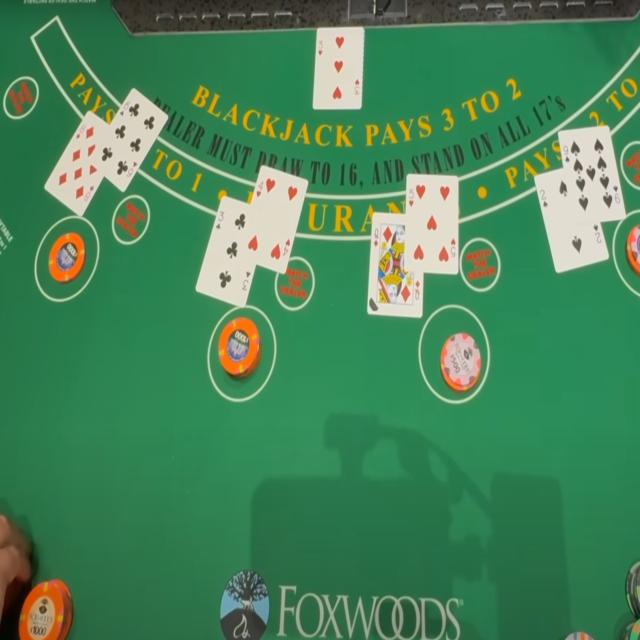2: (539, 188, 548, 201)
3: (218, 210, 224, 222), (318, 40, 324, 50)
4: (258, 179, 264, 192)
5: (408, 186, 416, 200)
6: (123, 100, 130, 111)
8: (80, 122, 86, 134)
9: (562, 143, 570, 156)
Q: (373, 226, 380, 240)
